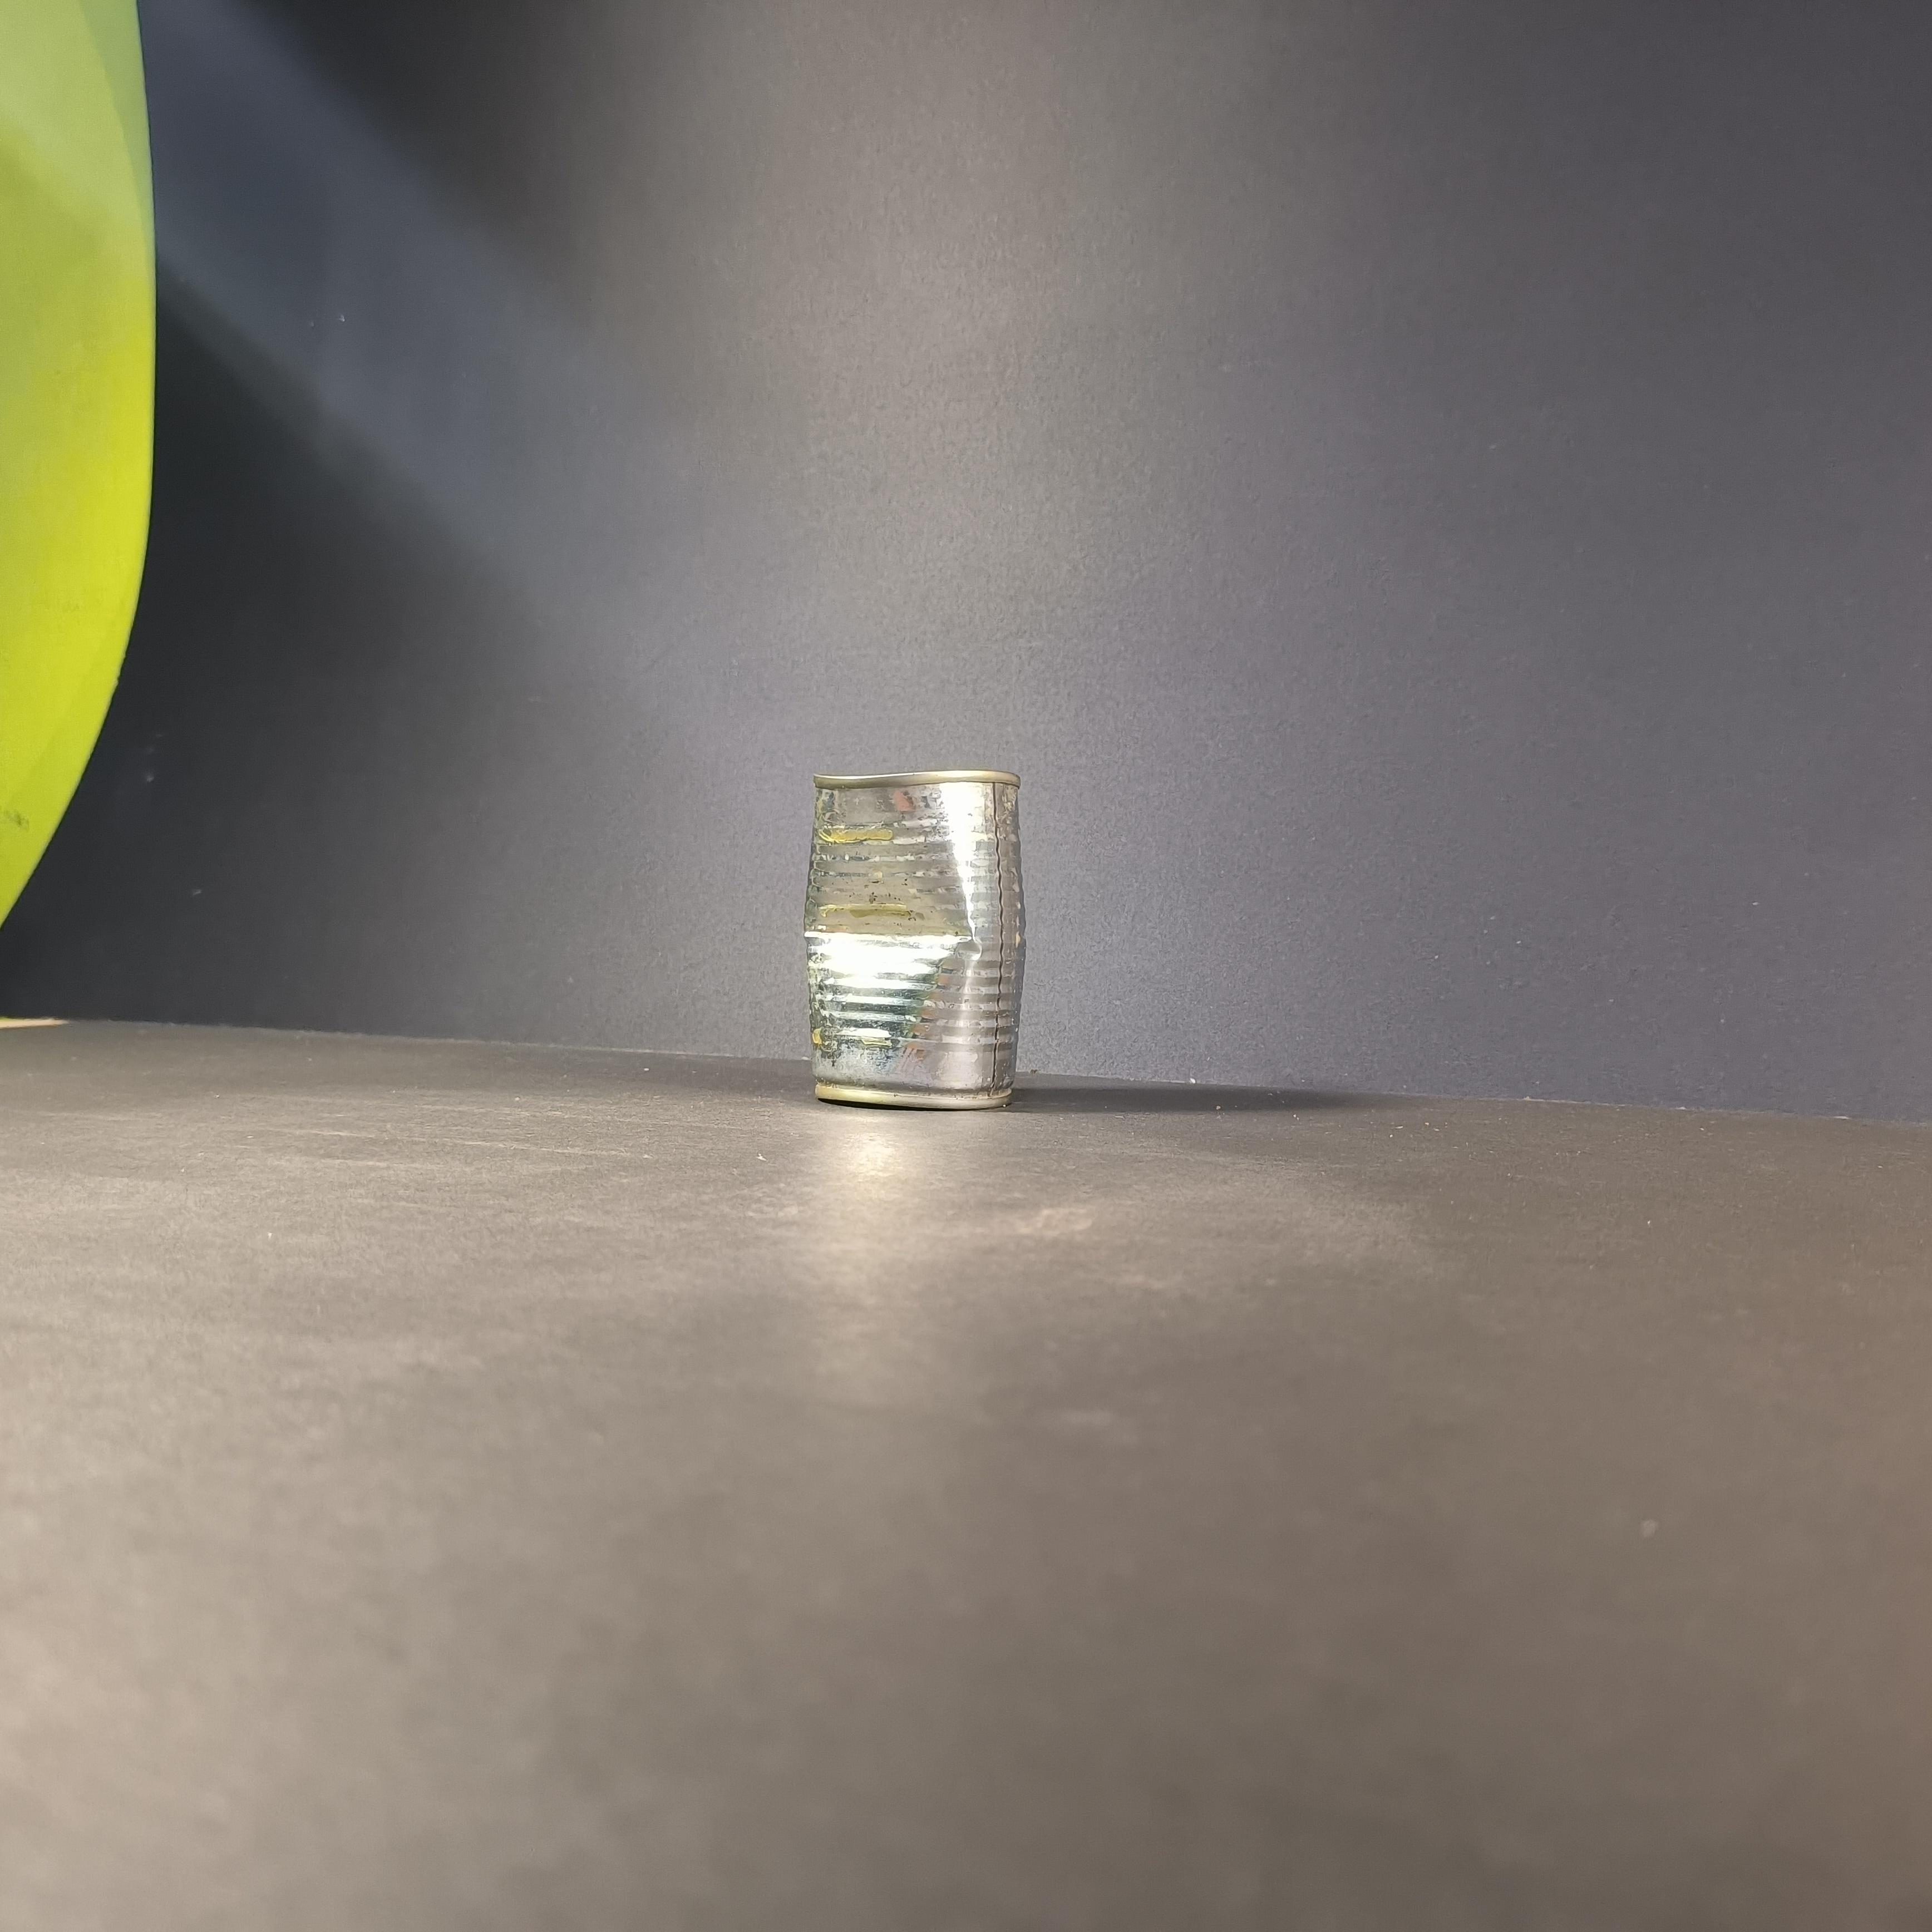Dented: (778, 713, 1051, 1155)
